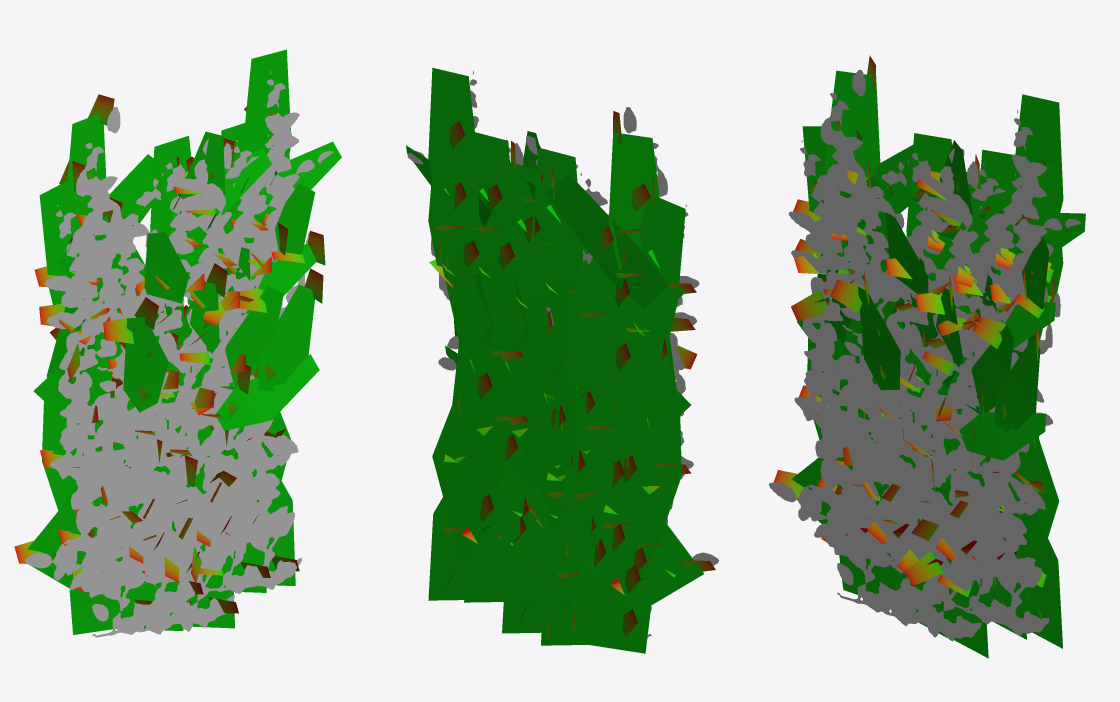
The model's file is Ivy_A2.fbx.
3 views of the same model, side by side, from view 1: azimuth 30°, elevation 25°; view 2: azimuth 150°, elevation 25°; view 3: azimuth 330°, elevation 25° (orthographic).
Parts seen in each view (by area): view 1: Ivy_A2_BillBoard, Ivy_A2_LOD0; view 2: Ivy_A2_LOD0, Ivy_A2_BillBoard; view 3: Ivy_A2_BillBoard, Ivy_A2_LOD0.
Boxes of the visible parts, left/top/right/bottom form: Ivy_A2_BillBoard: left=25, top=70, right=333, bottom=637; Ivy_A2_LOD0: left=14, top=49, right=341, bottom=634; Ivy_A2_LOD0: left=406, top=67, right=715, bottom=653; Ivy_A2_BillBoard: left=407, top=70, right=718, bottom=637; Ivy_A2_BillBoard: left=768, top=69, right=1081, bottom=641; Ivy_A2_LOD0: left=774, top=55, right=1085, bottom=658.
Size of what is drawn, in the model's own units: 45.34 by 77.23 by 8.99.
